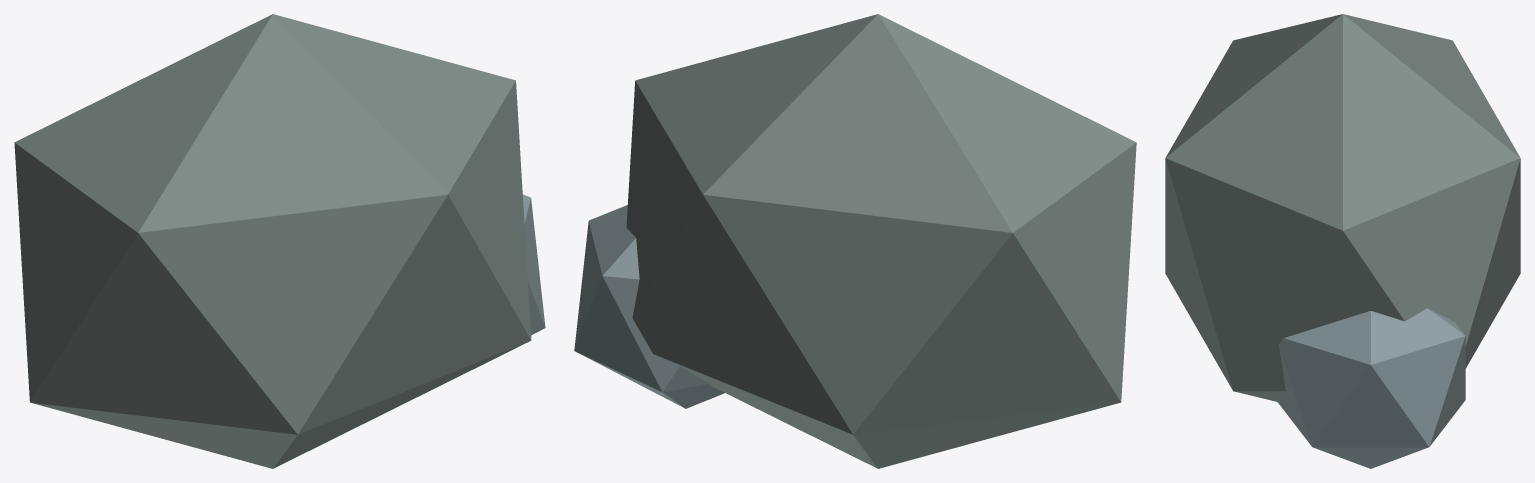
The model's file is rock.fbx.
The picture shows the model from 3 angles, left to right: view 1: azimuth 30°, elevation 25°; view 2: azimuth 150°, elevation 25°; view 3: azimuth 270°, elevation 25°; orthographic projection. The views are drawn at different scales.
Parts seen in each view (by area): view 1: Rock, Shard; view 2: Rock, Shard; view 3: Rock, Shard.
Boxes of the visible parts, left/top/right/bottom form: Rock: left=14, top=14, right=531, bottom=468; Shard: left=522, top=194, right=545, bottom=335; Rock: left=626, top=14, right=1136, bottom=468; Shard: left=574, top=205, right=724, bottom=408; Rock: left=1165, top=14, right=1520, bottom=401; Shard: left=1276, top=308, right=1465, bottom=468.
Size of the model in its own units: 190 by 160 by 128.
